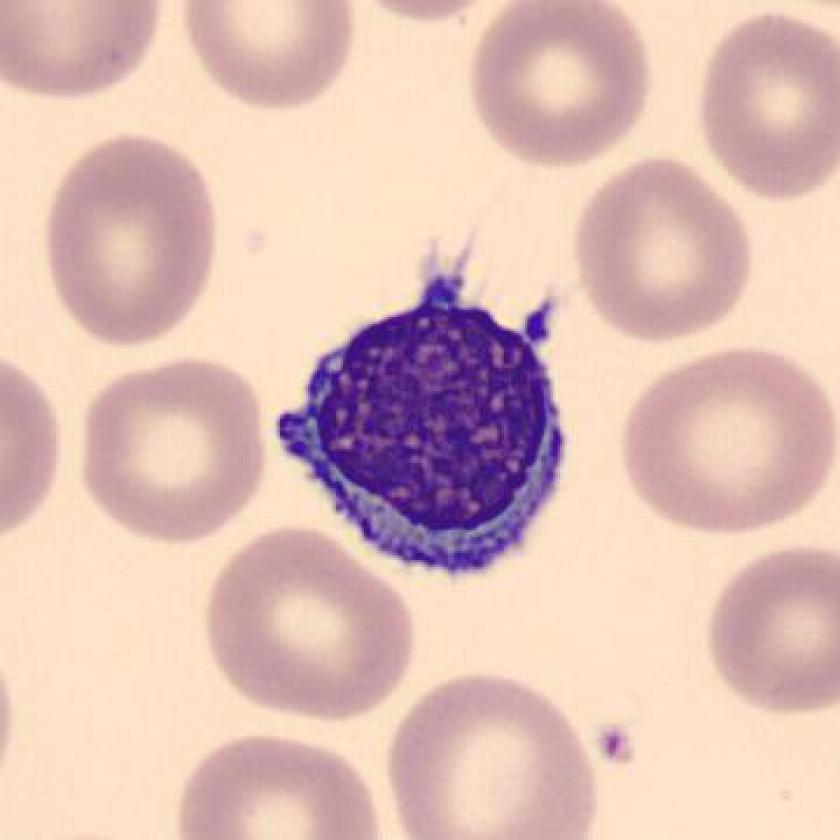lymphocyte: (253, 228, 582, 589)
